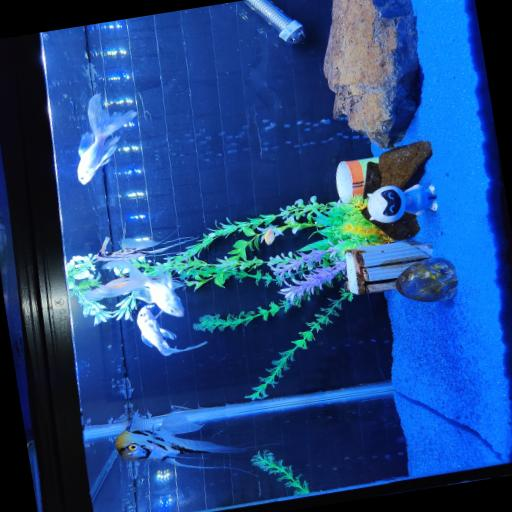Fish: (116, 411, 251, 473), (85, 260, 184, 316), (78, 93, 137, 183), (137, 305, 207, 355), (96, 237, 193, 260), (257, 226, 282, 244)
